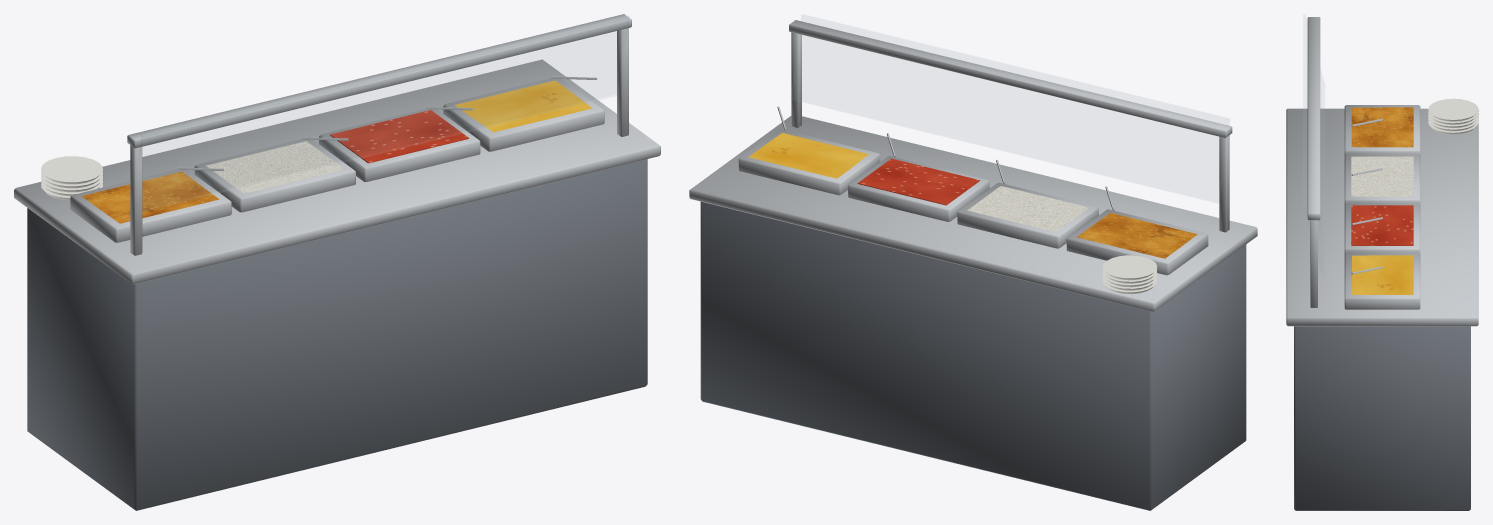
The model's file is buffet_chafing_buffet_line.glb.
3 views of the same model, side by side, from view 1: azimuth 30°, elevation 25°; view 2: azimuth 150°, elevation 25°; view 3: azimuth 270°, elevation 25° (orthographic). The views are drawn at different scales.
Parts seen in each view (by area): view 1: buffet_chafing_buffet_line; view 2: buffet_chafing_buffet_line; view 3: buffet_chafing_buffet_line.
Boxes of the visible parts, x1,y1,x2,y2 form: buffet_chafing_buffet_line: (14,14,660,510); buffet_chafing_buffet_line: (689,14,1257,510); buffet_chafing_buffet_line: (1286,15,1478,510).
Size of the model in its own units: 1.96 by 1.31 by 0.76.
8 materials, 4 textured.
